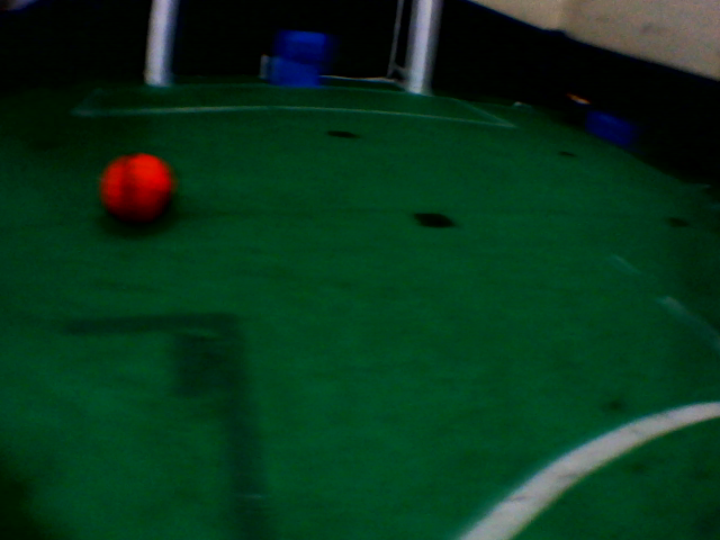bola: (96, 146, 176, 236)
